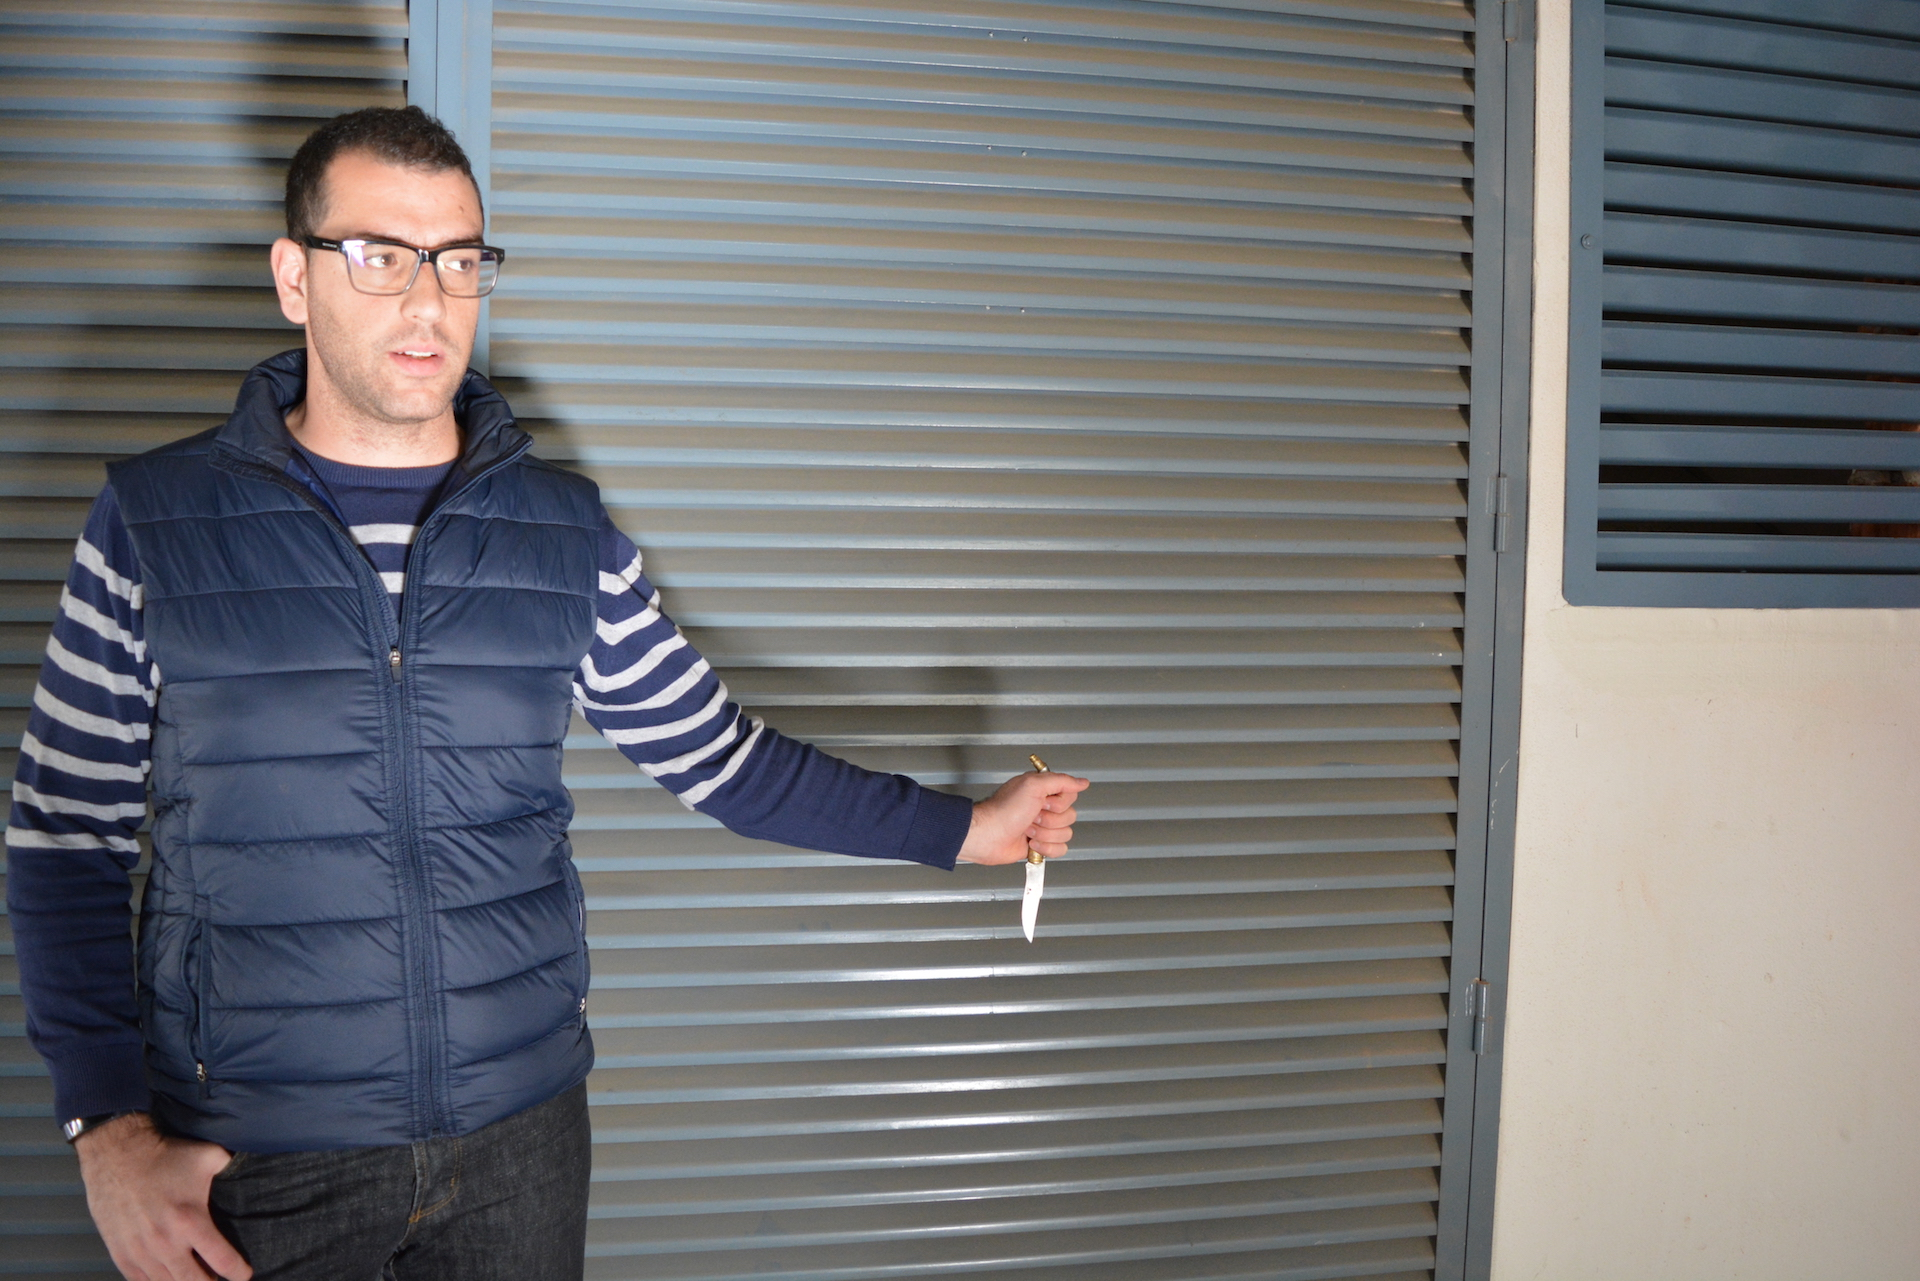knife: (1015, 743, 1062, 955)
